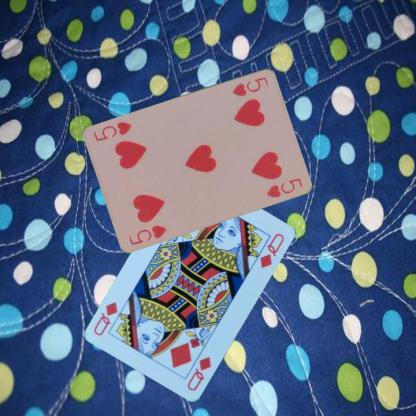5h: (126, 222, 168, 246), (230, 74, 270, 97)
Qd: (184, 354, 213, 392)
